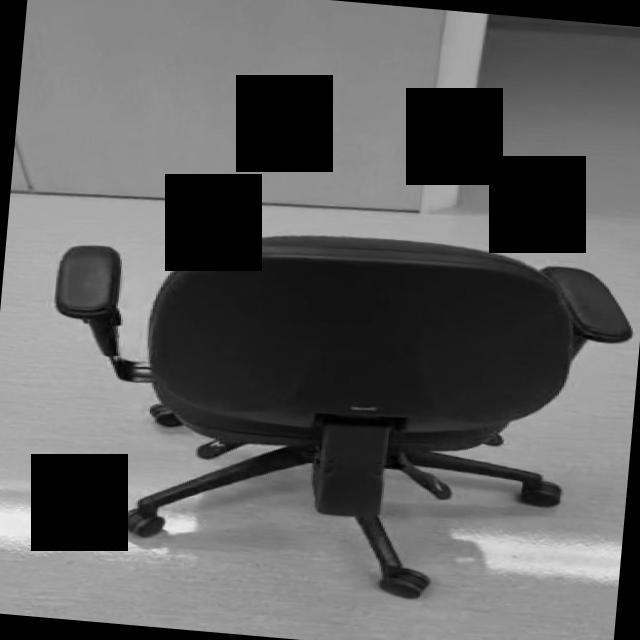chair: (31, 210, 640, 616)
